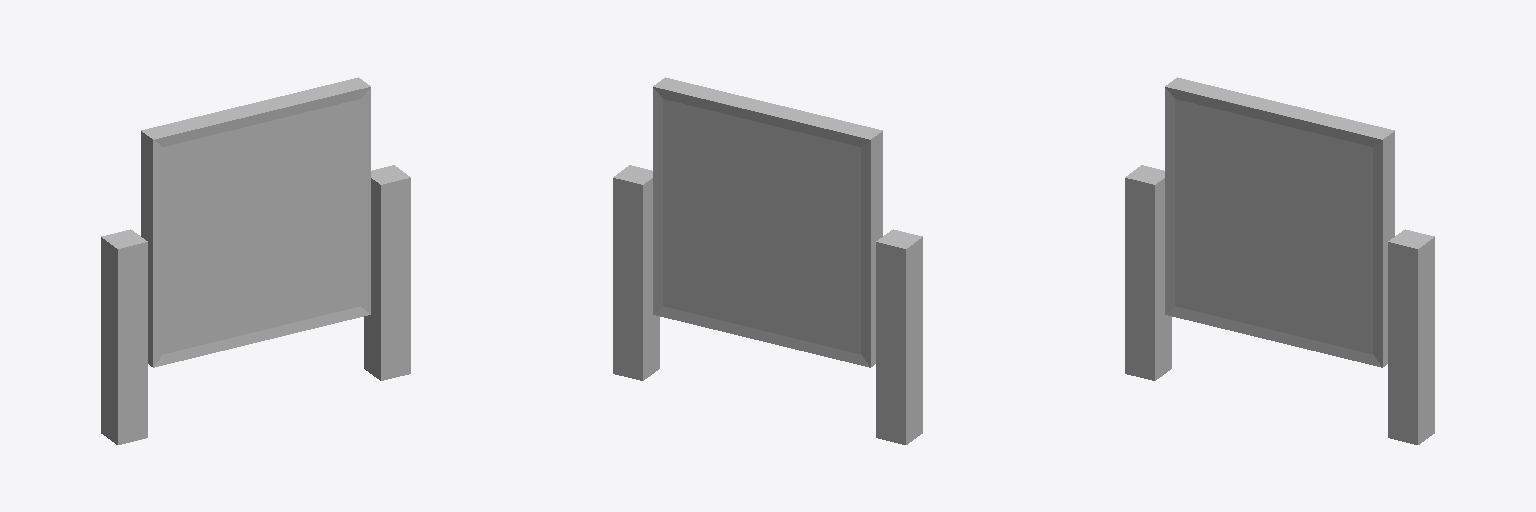
The model's file is mirrorblock 2.obj.
3 views of the same model, side by side, from view 1: azimuth 30°, elevation 25°; view 2: azimuth 150°, elevation 25°; view 3: azimuth 330°, elevation 25° (orthographic).
Visible parts, largest first — view 1: Circle; view 2: Circle; view 3: Circle.
Part boxes in pixels (x1,y1,x2,y2): Circle: (101, 77, 410, 444); Circle: (613, 77, 922, 444); Circle: (1125, 77, 1434, 444).
Size of the model in its own units: 0.9911 by 0.9511 by 0.1.